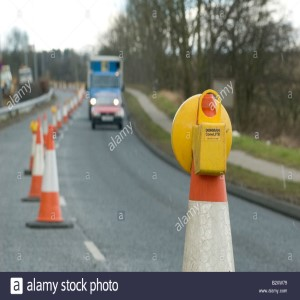traffic cone: (179, 129, 235, 272), (23, 125, 74, 229), (21, 129, 50, 203), (24, 124, 43, 177), (31, 117, 44, 166), (49, 109, 62, 142), (40, 117, 51, 151)
